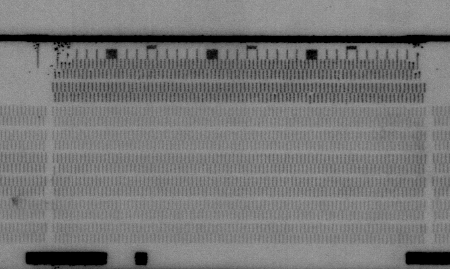Broken hole: (2, 39, 57, 104), (425, 40, 450, 107)
Oblique printing: (409, 58, 422, 80), (53, 60, 76, 71), (304, 92, 315, 105), (50, 164, 61, 177)
